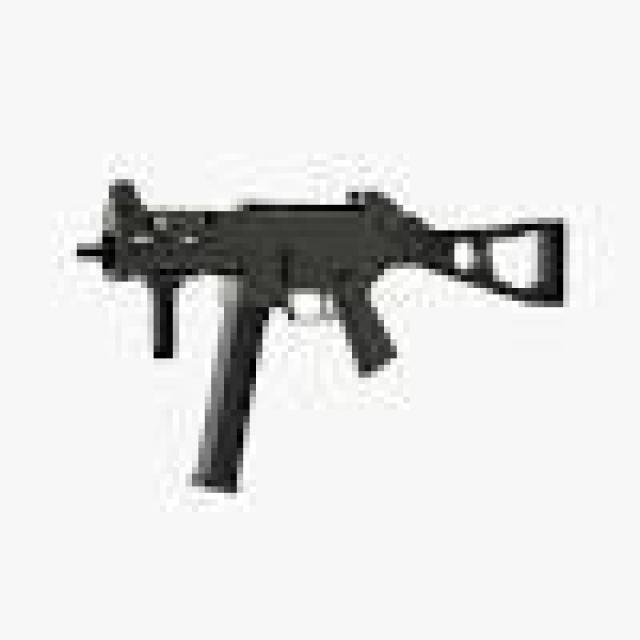Gun: (67, 156, 575, 529)
